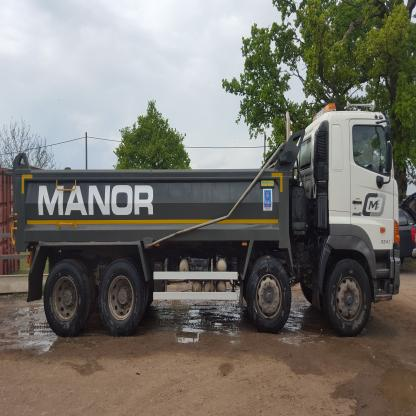dump_truck: (7, 81, 407, 353)
